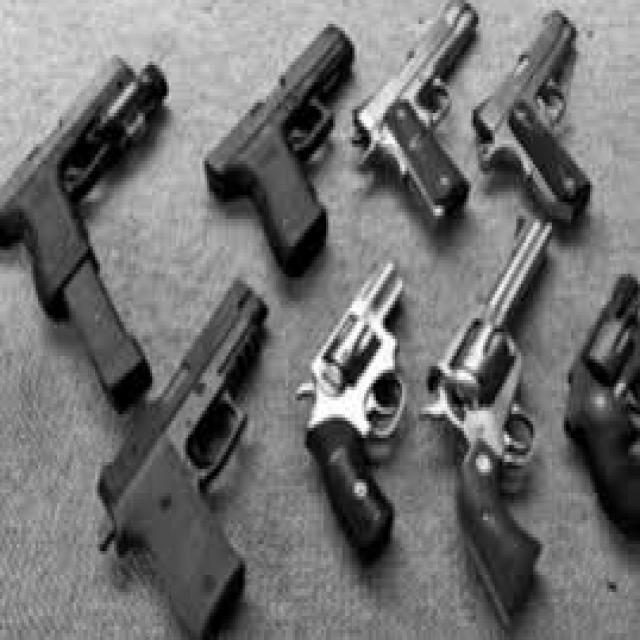handgun: (98, 277, 272, 632), (419, 221, 556, 629), (4, 53, 171, 317), (205, 24, 355, 269), (293, 261, 408, 561), (358, 0, 482, 235), (474, 4, 596, 222), (564, 271, 640, 548)
